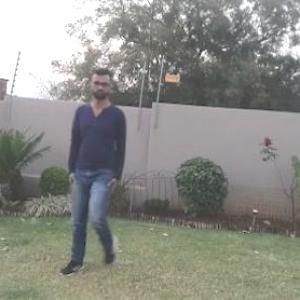follow: (73, 63, 147, 276)
